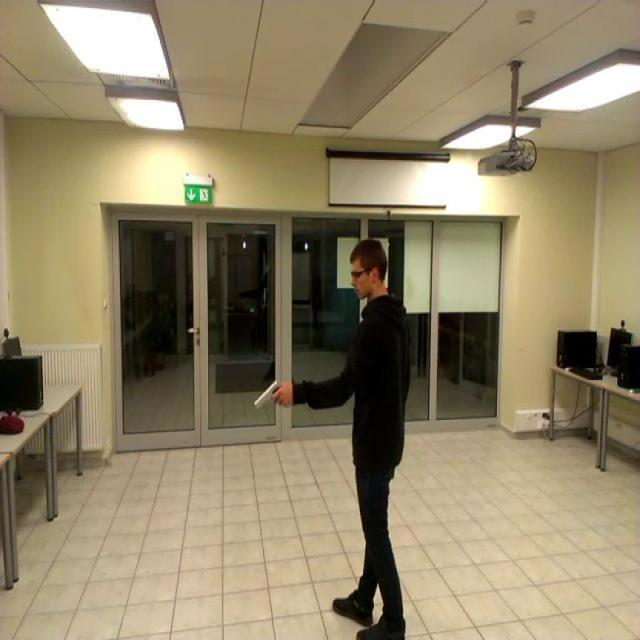pistol: (255, 378, 287, 409)
